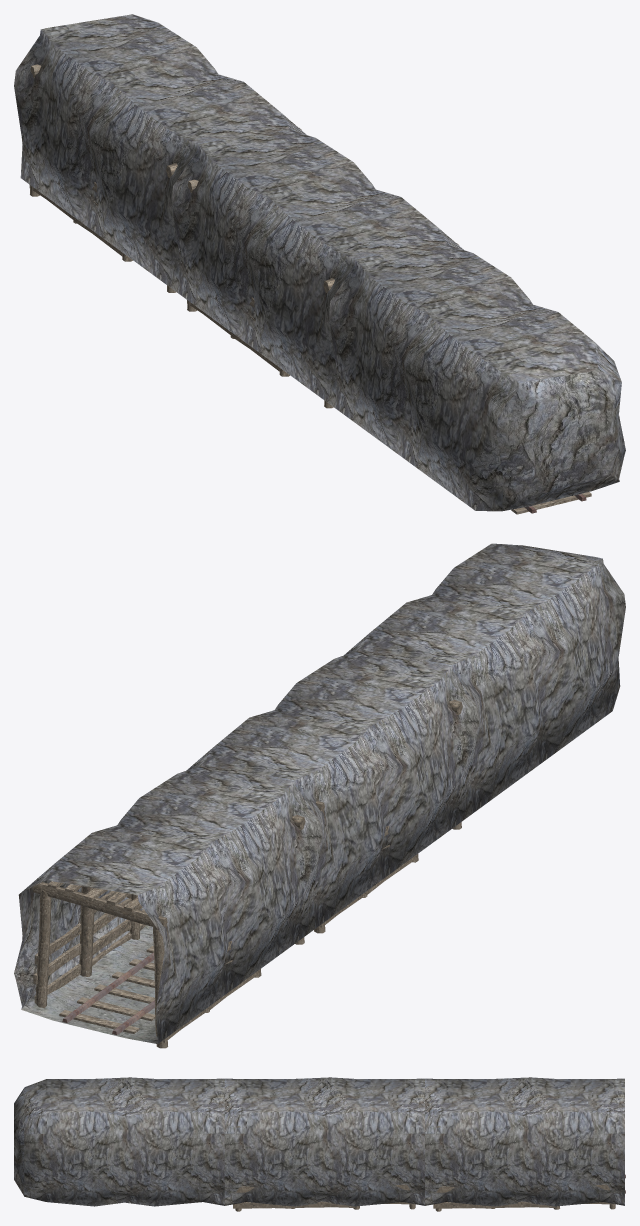
File: Mine002_1.fbx
3 renders of one model, top to bottom at view 1: azimuth 30°, elevation 25°; view 2: azimuth 150°, elevation 25°; view 3: azimuth 270°, elevation 25°, orthographic. The views are drawn at different scales.
Parts seen in each view (by area): view 1: Mine.005; view 2: Mine.005; view 3: Mine.005.
Boxes of the visible parts, x1,y1,x2,y2 form: Mine.005: [14, 14, 625, 514]; Mine.005: [14, 543, 625, 1048]; Mine.005: [14, 1077, 625, 1211].
Bounding box in the file's own units: 386 × 358 × 2003.
